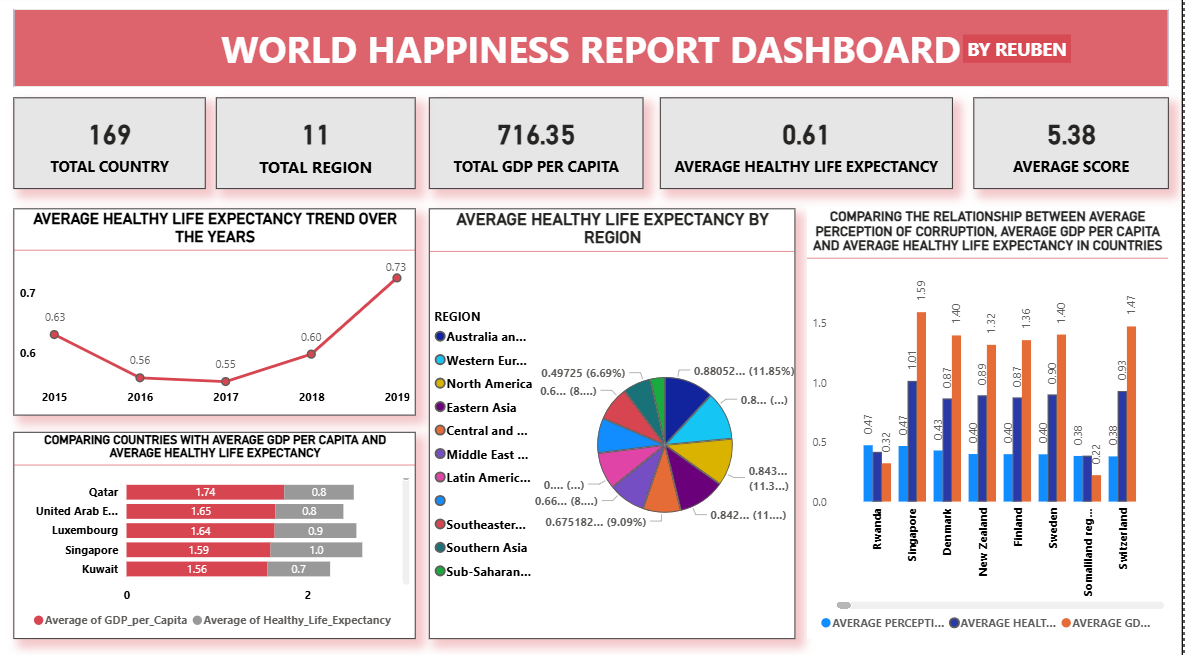

The dashboard page shown, as its layout file describes it:
{"tool":"powerbi","page":{"name":"Page 1","canvas":[1280,720],"ordinal":0},"visuals":[{"type":"card","title":"TOTAL COUNTRY","fields":{"Values":["Count(merged_happiness_data.Country)"]},"box":[17.8,111.7,207.3,98.8],"z":0},{"type":"shape","box":[17.8,16.2,1246.8,84.2],"z":1000},{"type":"card","title":"TOTAL COUNTRY","fields":{"Values":["Sum(merged_happiness_data.GDP_per_Capita)"]},"box":[466.3,111.7,231.5,98.8],"z":2000},{"type":"card","title":"TOTAL COUNTRY","fields":{"Values":["Count(merged_happiness_data.Region)"]},"box":[236.4,111.7,215.4,98.8],"z":3000},{"type":"card","title":"TOTAL COUNTRY","fields":{"Values":["Avg(merged_happiness_data.Healthy_Life_Expectancy)"]},"box":[715.7,111.7,315.7,98.8],"z":4000},{"type":"card","title":"TOTAL COUNTRY","fields":{"Values":["Avg(merged_happiness_data.Score)"]},"box":[1054.1,111.7,210.5,98.8],"z":5000},{"type":"lineChart","title":"AVERAGE HEALTHY LIFE EXPECTANCY TREND OVER THE YEARS","fields":{"Y":["Avg(merged_happiness_data.Healthy_Life_Expectancy)"],"Category":["merged_happiness_data.Year"]},"box":[17.8,231.5,434,223.5],"z":6000},{"type":"barChart","title":"COMPARING COUNTRIES WITH AVERAGE GDP PER CAPITA AND AVERAGE HEALTHY LIFE EXPECTANCY","fields":{"Y":["Avg(merged_happiness_data.GDP_per_Capita)","Avg(merged_happiness_data.Healthy_Life_Expectancy)"],"Category":["merged_happiness_data.Country"]},"box":[17.8,472.8,434,223.5],"z":7000},{"type":"pieChart","title":"AVERAGE HEALTHY LIFE EXPECTANCY BY REGION","fields":{"Category":["merged_happiness_data.Region"],"Y":["Avg(merged_happiness_data.Healthy_Life_Expectancy)"]},"box":[466.3,231.5,395.1,464.7],"z":8000},{"type":"clusteredColumnChart","title":"COMPARING THE RELATIONSHIP BETWEEN AVERAGE PERCEPTION OF CORRUPTION, AVERAGE GDP PER CAPITA AND AVERAGE HEALTHY LIFE EXPECTANCY IN COUNTRIES","fields":{"Y":["Avg(merged_happiness_data.Perceptions_of_Corruption)","Avg(merged_happiness_data.Healthy_Life_Expectancy)","Avg(merged_happiness_data.GDP_per_Capita)"],"Category":["merged_happiness_data.Country"]},"box":[874.4,231.5,390.2,464.7],"z":9000},{"type":"shape","box":[1042.8,43.7,116.6,30.8],"z":10000}]}

Visuals, with their boxes in screenshot pixels (x1, y1, x2, y2), scaled from the page's 1280x720 canvas onto the 1185x655 screenshot:
"TOTAL COUNTRY" card: [left=16, top=102, right=208, bottom=191]
shape: [left=16, top=15, right=1171, bottom=91]
"TOTAL COUNTRY" card: [left=432, top=102, right=646, bottom=191]
"TOTAL COUNTRY" card: [left=219, top=102, right=418, bottom=191]
"TOTAL COUNTRY" card: [left=663, top=102, right=955, bottom=191]
"TOTAL COUNTRY" card: [left=976, top=102, right=1171, bottom=191]
"AVERAGE HEALTHY LIFE EXPECTANCY TREND OVER THE YEARS" lineChart: [left=16, top=211, right=418, bottom=414]
"COMPARING COUNTRIES WITH AVERAGE GDP PER CAPITA AND AVERAGE HEALTHY LIFE EXPECTANCY" barChart: [left=16, top=430, right=418, bottom=633]
"AVERAGE HEALTHY LIFE EXPECTANCY BY REGION" pieChart: [left=432, top=211, right=797, bottom=633]
"COMPARING THE RELATIONSHIP BETWEEN AVERAGE PERCEPTION OF CORRUPTION, AVERAGE GDP PER CAPITA AND AVERAGE HEALTHY LIFE EXPECTANCY IN COUNTRIES" clusteredColumnChart: [left=810, top=211, right=1171, bottom=633]
shape: [left=965, top=40, right=1073, bottom=68]
